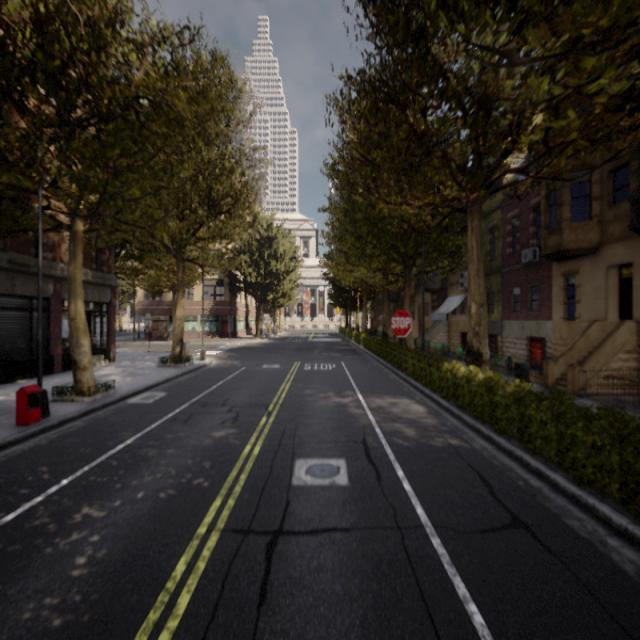stop sign: (388, 306, 414, 339)
